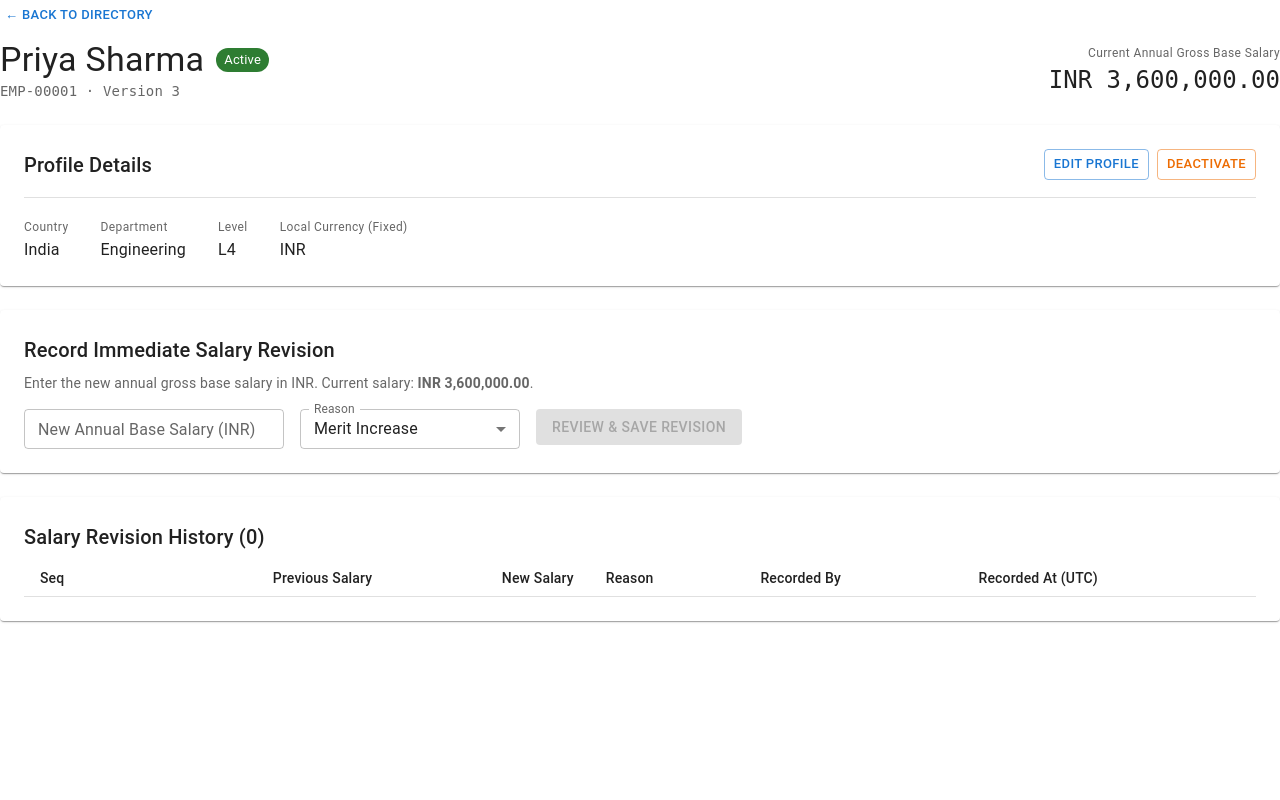
Scenario: EmployeeDetailPage salary revision validation and conflict recovery › preserves the exact same requestKey and payload on network retry
Expected: the heading "Priya Sharma" is shown, [0, 39, 204, 81]
Type "3900000" into the field labelled "New Annual Base Salary (INR)" at coordinates (154, 429), box [24, 409, 284, 449]
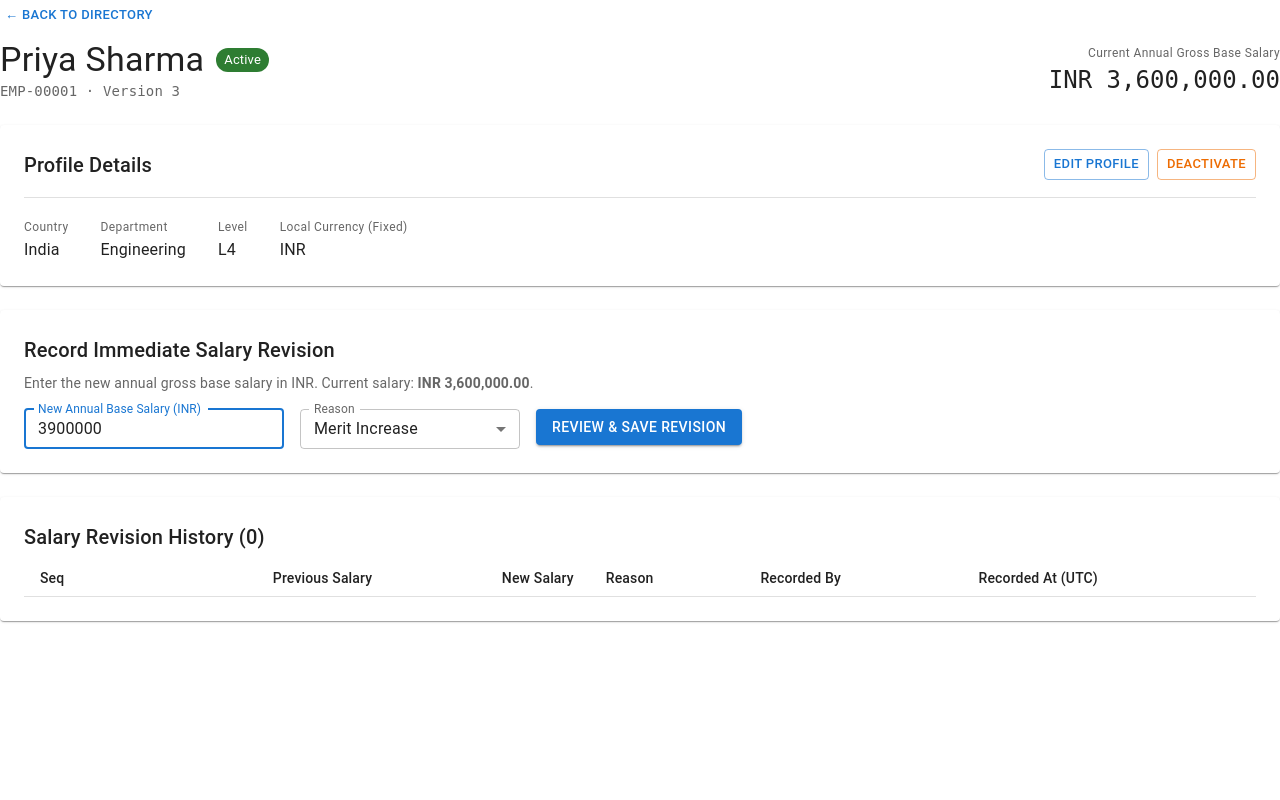
Click the button "Review & Save Revision" at coordinates (639, 427), box [536, 409, 742, 445]
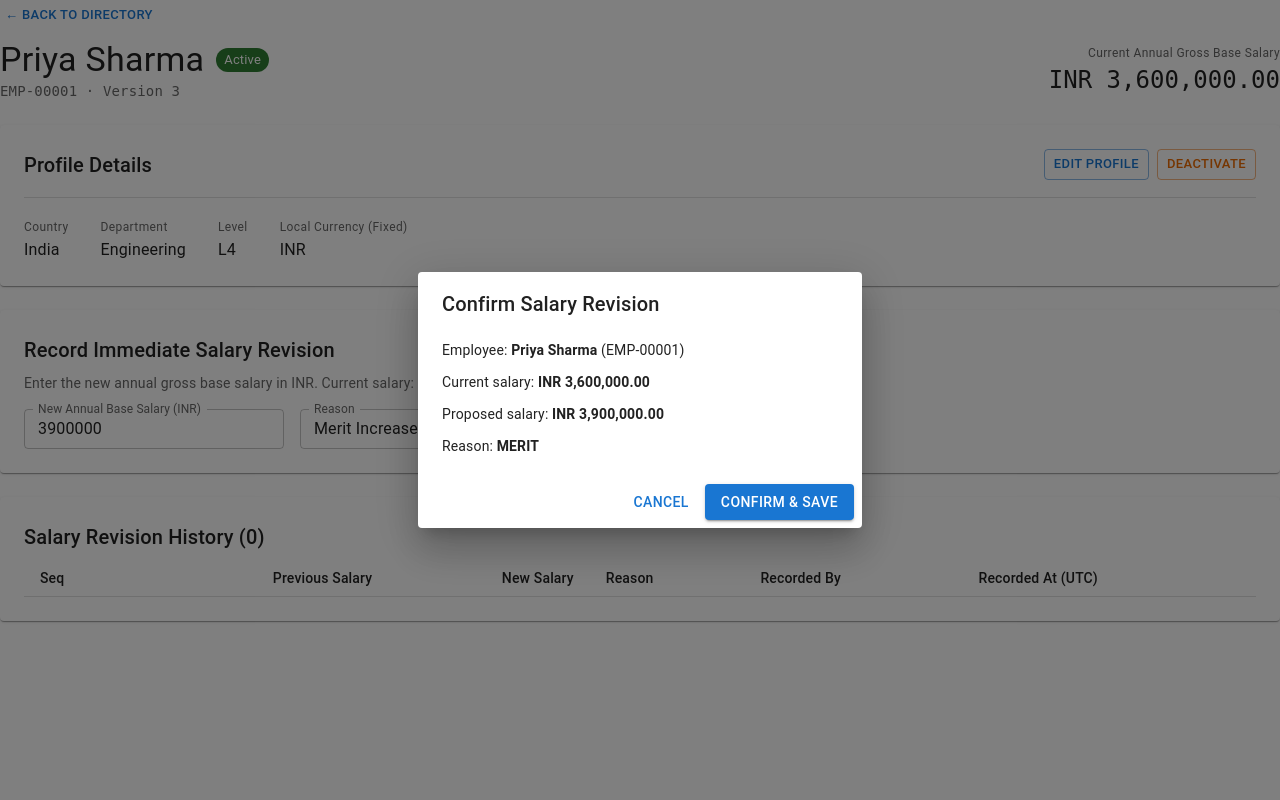
Now the dialog is shown, box [418, 272, 862, 528]
# First attempt fails with 500 error
Click the button "Confirm & Save" at coordinates (779, 502), box [705, 484, 854, 520]
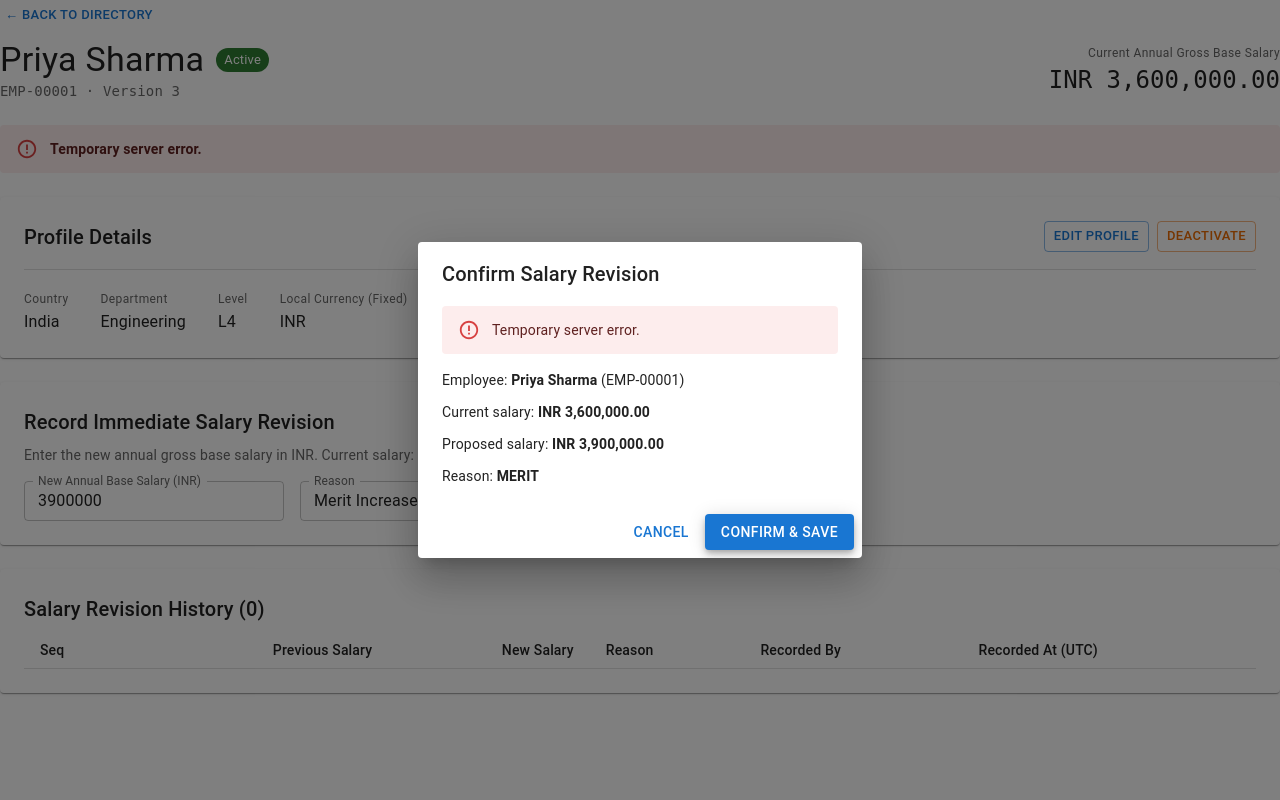
Now the dialog is shown, box [418, 242, 862, 558]
# Retry by clicking Confirm & Save again
Click the button "Confirm & Save" at coordinates (779, 532), box [705, 514, 854, 550]
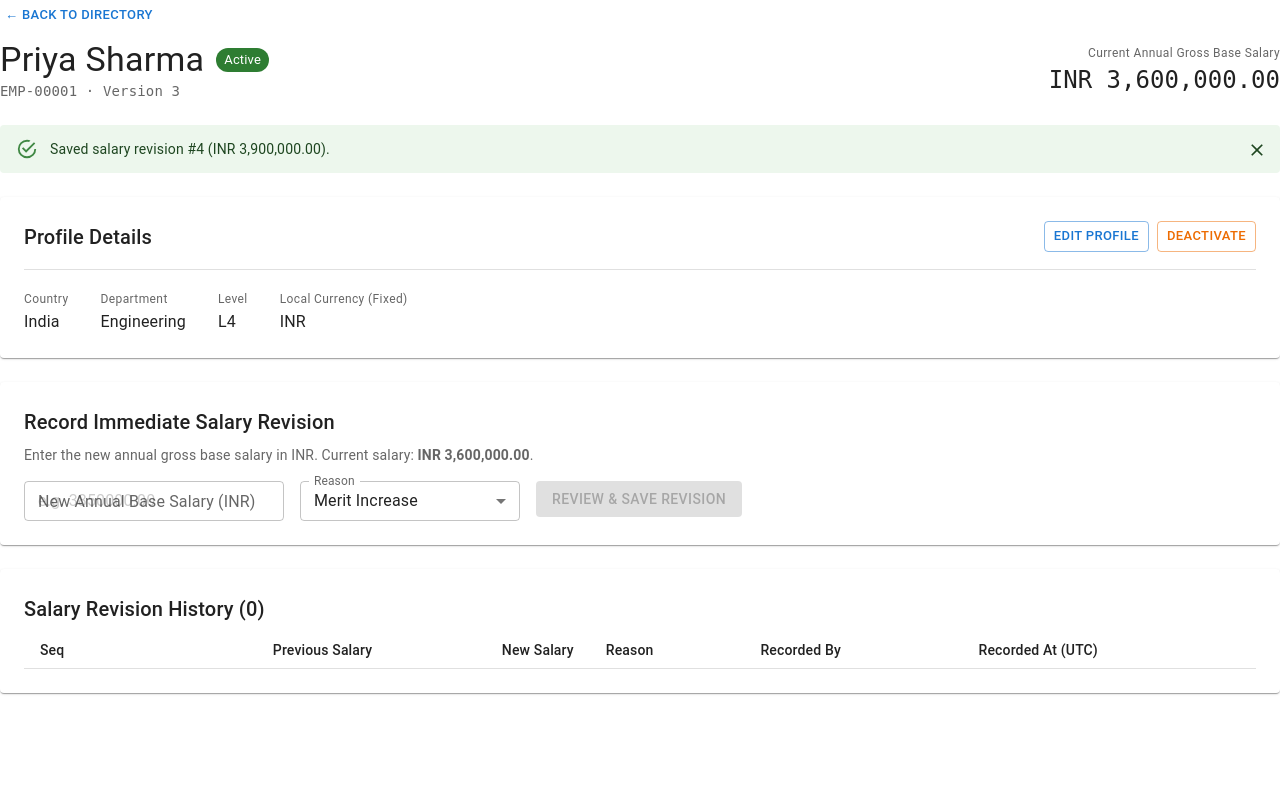
Now the text "Saved salary revision #4 (INR 3,900,000.00)." is shown, box [50, 141, 330, 157]
Now the dialog is gone
